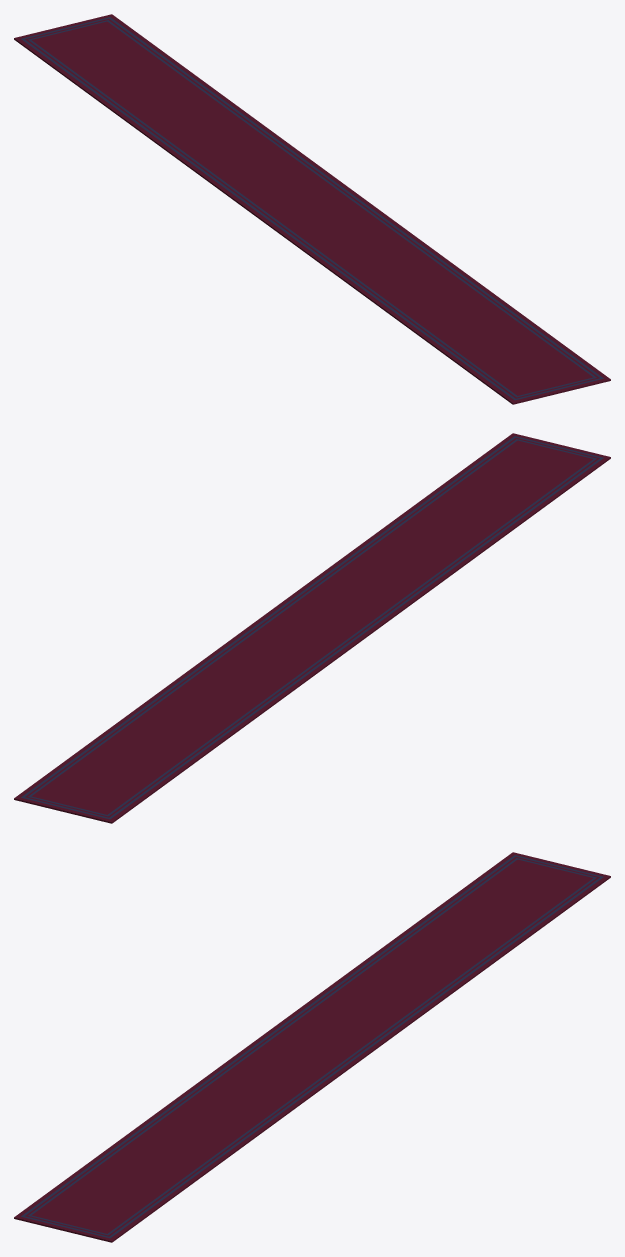
The model's file is Tappeto.fbx.
3 views of the same model, one above another, from view 1: azimuth 30°, elevation 25°; view 2: azimuth 150°, elevation 25°; view 3: azimuth 330°, elevation 25° (orthographic).
Visible parts, largest first — view 1: pCube1; view 2: pCube1; view 3: pCube1.
Boxes of the visible parts, x1=… form: pCube1: x1=14, y1=14, x2=610, y2=404; pCube1: x1=14, y1=433, x2=610, y2=823; pCube1: x1=14, y1=852, x2=610, y2=1242.
Bounding box in the file's own units: 416 × 6.08 × 3668.
